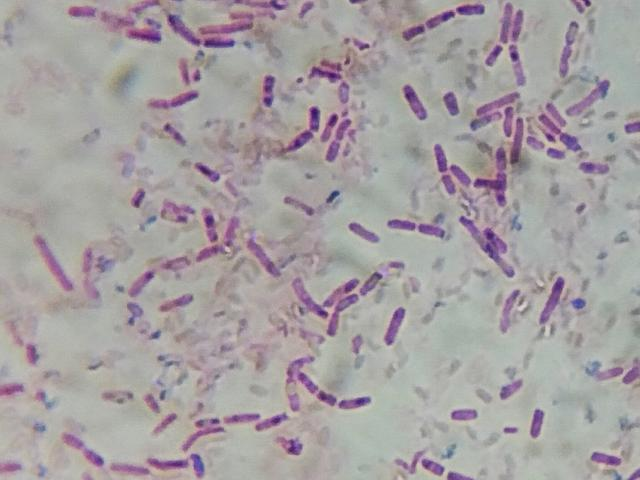E. coli: (36, 228, 74, 291), (568, 77, 615, 119), (537, 273, 569, 322), (148, 91, 205, 114), (502, 288, 528, 337), (399, 81, 427, 125), (292, 281, 322, 322), (197, 18, 253, 37), (164, 12, 194, 45), (159, 288, 198, 313), (249, 237, 276, 272), (72, 4, 117, 25), (383, 300, 406, 340), (507, 43, 528, 86), (344, 220, 380, 245), (315, 57, 343, 89), (510, 118, 527, 167), (476, 90, 525, 107), (414, 215, 444, 242), (234, 0, 278, 18), (146, 408, 174, 436), (485, 248, 513, 276), (0, 376, 30, 402), (329, 296, 349, 335), (263, 71, 282, 112), (282, 193, 313, 217), (327, 274, 359, 297), (590, 449, 625, 470), (485, 224, 510, 253), (127, 267, 151, 297), (128, 189, 159, 212), (449, 403, 478, 427), (21, 338, 42, 371), (225, 216, 246, 249), (131, 27, 167, 46), (281, 374, 298, 414), (439, 92, 464, 119), (288, 126, 312, 154), (188, 426, 221, 446), (147, 454, 185, 471), (163, 123, 188, 148), (196, 158, 220, 184), (532, 405, 548, 444), (500, 377, 527, 400), (179, 57, 201, 85), (111, 460, 145, 478), (559, 40, 575, 77), (621, 358, 640, 389), (424, 11, 455, 30), (284, 354, 312, 375), (459, 0, 487, 21), (203, 37, 242, 52), (376, 257, 405, 277), (546, 98, 570, 122), (163, 254, 193, 273), (101, 387, 131, 406), (202, 207, 219, 240), (433, 143, 451, 174), (419, 453, 441, 478), (385, 213, 417, 230), (259, 410, 286, 430), (363, 268, 385, 292), (79, 447, 104, 468), (460, 218, 480, 244), (0, 456, 21, 480), (220, 408, 256, 422), (514, 6, 528, 42), (337, 394, 372, 408), (403, 21, 425, 42), (563, 21, 584, 43), (196, 242, 219, 262), (336, 76, 353, 103), (305, 104, 320, 134), (561, 132, 583, 152), (125, 298, 143, 322), (623, 110, 640, 135), (195, 451, 210, 479), (581, 162, 609, 177), (146, 391, 162, 417), (486, 40, 502, 66), (470, 114, 498, 128), (314, 389, 340, 404), (597, 362, 616, 382), (439, 171, 455, 194), (540, 113, 557, 134), (322, 112, 333, 144), (502, 108, 514, 137), (502, 0, 510, 43), (296, 373, 314, 392), (336, 115, 349, 141), (503, 422, 521, 440), (569, 0, 592, 14), (326, 136, 339, 160), (546, 146, 564, 161), (62, 434, 81, 448), (196, 418, 217, 429), (529, 134, 540, 152), (448, 470, 465, 480)
